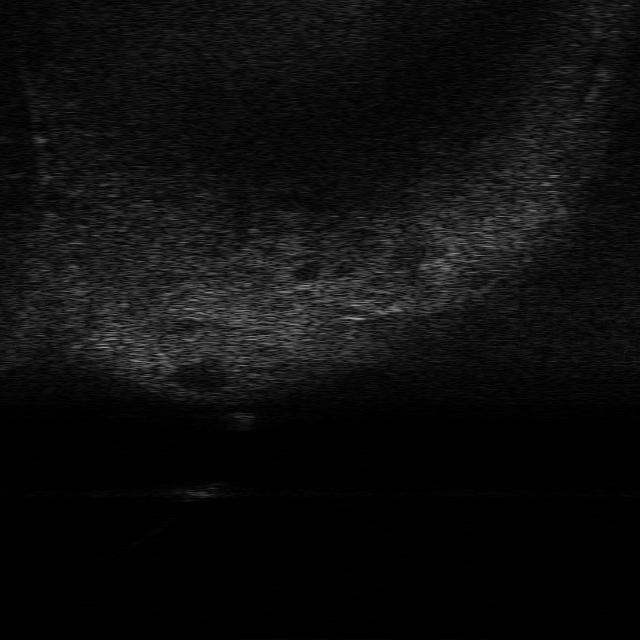ball: (222, 408, 258, 431)
cube: (171, 482, 225, 499)
